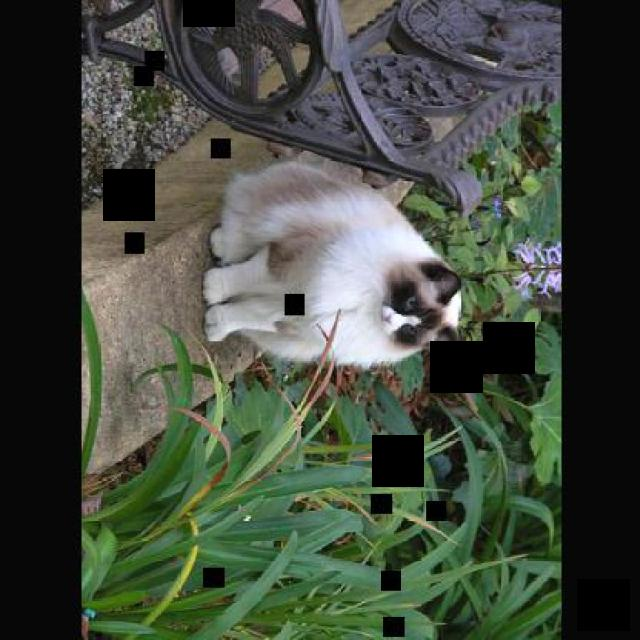unauthorized: (200, 155, 463, 371)
